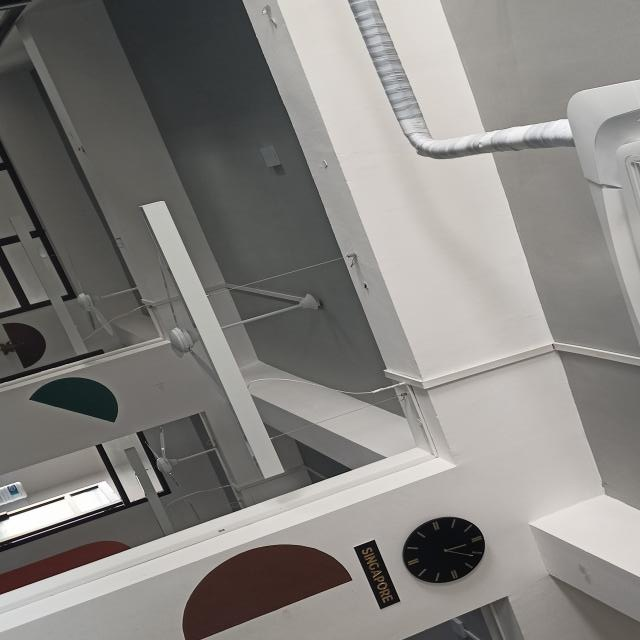fluorescent tube: (132, 192, 299, 486), (3, 204, 96, 360), (115, 443, 174, 542)
